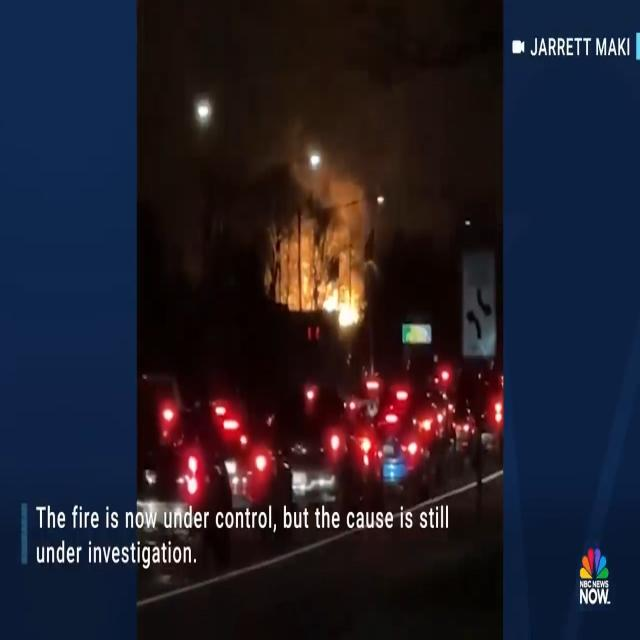fire: (314, 282, 373, 326)
